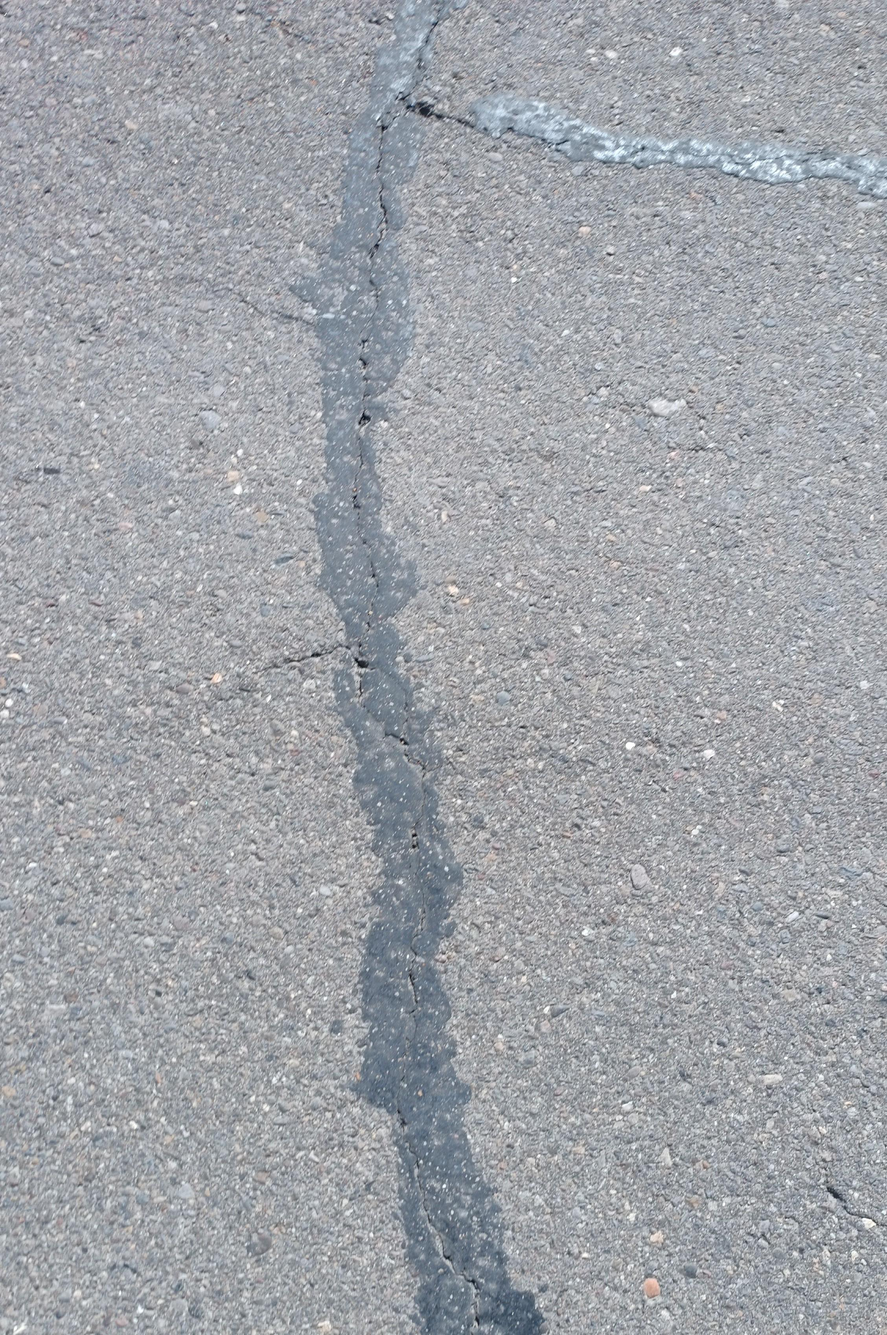GRIETA: (395, 885, 483, 1334), (367, 102, 476, 259), (248, 644, 372, 679), (354, 339, 371, 483)
